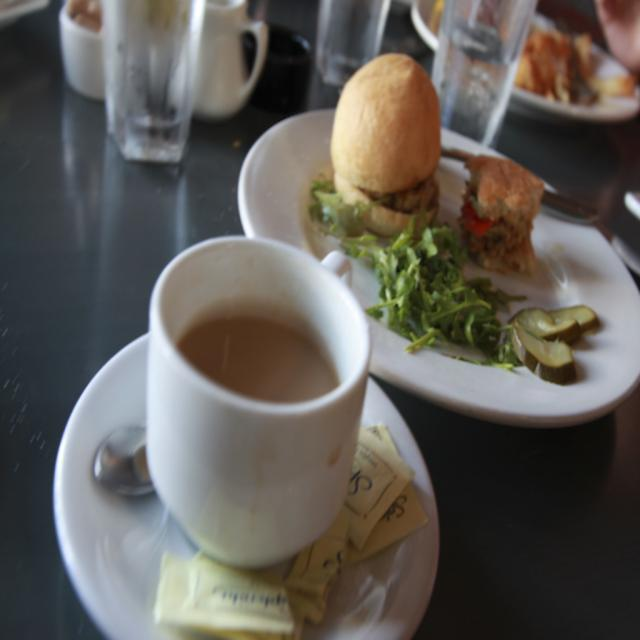Coffee: (132, 221, 380, 579)
Tea: (175, 320, 335, 402)
